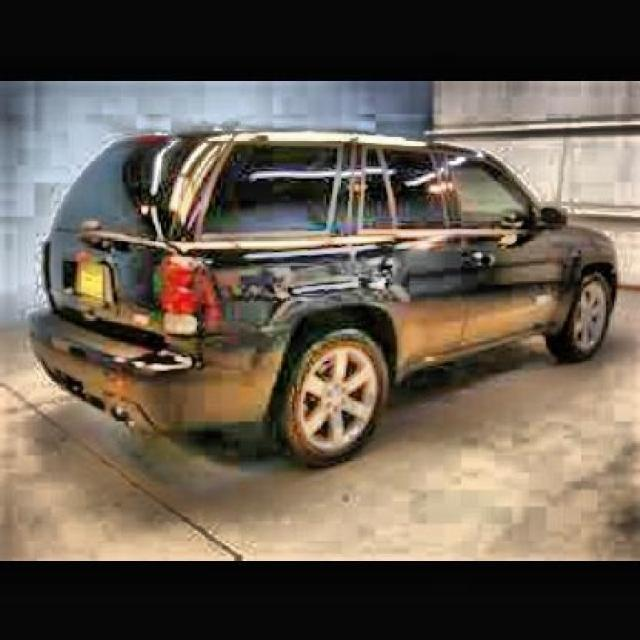black: (36, 138, 640, 436)
